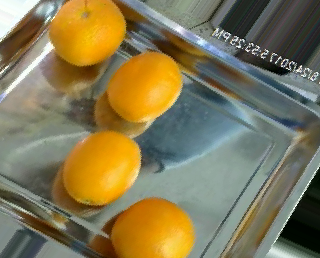Orange: (62, 130, 141, 205), (107, 50, 184, 122), (111, 197, 195, 258), (48, 1, 126, 66)
